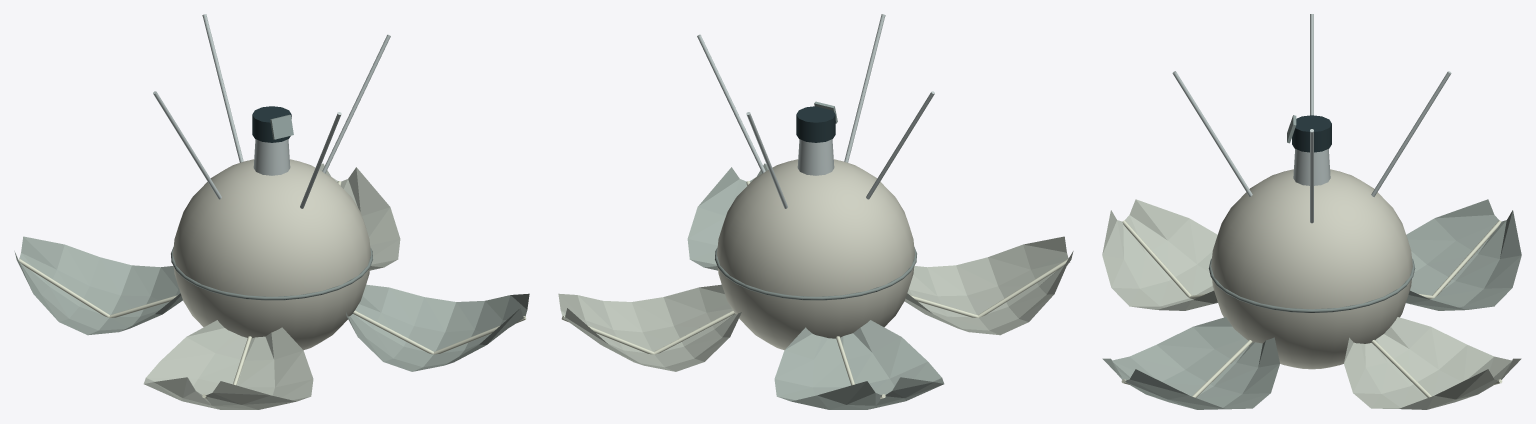
File: luna-9.glb
3 renders of one model, left to right at view 1: azimuth 30°, elevation 25°; view 2: azimuth 150°, elevation 25°; view 3: azimuth 270°, elevation 25°, orthographic.
Visible parts, largest first — view 1: luna-9-spherical-capsule, luna-9-open-petal-2, luna-9-open-petal-3, luna-9-open-petal-1, luna-9-open-petal-4, luna-9-television-scanner-column, luna-9-shell-seam, luna-9-television-scan-head, luna-9-rod-antenna-4, luna-9-rod-antenna-1, luna-9-rod-antenna-3, luna-9-petal-outer-rib-3 (+2 smaller); view 2: luna-9-spherical-capsule, luna-9-open-petal-3, luna-9-open-petal-2, luna-9-open-petal-4, luna-9-open-petal-1, luna-9-television-scan-head, luna-9-television-scanner-column, luna-9-shell-seam, luna-9-rod-antenna-2, luna-9-rod-antenna-1, luna-9-rod-antenna-3, luna-9-rod-antenna-4 (+1 smaller); view 3: luna-9-spherical-capsule, luna-9-open-petal-1, luna-9-open-petal-4, luna-9-open-petal-3, luna-9-open-petal-2, luna-9-television-scan-head, luna-9-television-scanner-column, luna-9-shell-seam, luna-9-rod-antenna-2, luna-9-rod-antenna-4, luna-9-petal-outer-rib-2, luna-9-petal-outer-rib-3 (+1 smaller).
Boxes of the visible parts, bbox=[...] form: luna-9-spherical-capsule: bbox=[173, 159, 370, 350]; luna-9-open-petal-2: bbox=[143, 320, 313, 409]; luna-9-open-petal-3: bbox=[14, 236, 182, 335]; luna-9-open-petal-1: bbox=[346, 284, 529, 371]; luna-9-open-petal-4: bbox=[319, 163, 400, 270]; luna-9-television-scanner-column: bbox=[253, 139, 290, 175]; luna-9-shell-seam: bbox=[171, 247, 372, 300]; luna-9-television-scan-head: bbox=[252, 106, 291, 142]; luna-9-rod-antenna-4: bbox=[202, 14, 243, 162]; luna-9-rod-antenna-1: bbox=[322, 34, 390, 173]; luna-9-rod-antenna-3: bbox=[153, 91, 221, 199]; luna-9-petal-outer-rib-3: bbox=[19, 259, 109, 317]; luna-9-spherical-capsule: bbox=[717, 159, 914, 350]; luna-9-open-petal-3: bbox=[774, 320, 944, 409]; luna-9-open-petal-2: bbox=[904, 236, 1073, 335]; luna-9-open-petal-4: bbox=[558, 284, 741, 371]; luna-9-open-petal-1: bbox=[687, 163, 768, 270]; luna-9-television-scan-head: bbox=[796, 106, 835, 142]; luna-9-television-scanner-column: bbox=[797, 139, 834, 175]; luna-9-shell-seam: bbox=[715, 247, 916, 300]; luna-9-rod-antenna-2: bbox=[844, 14, 885, 162]; luna-9-rod-antenna-1: bbox=[697, 34, 765, 173]; luna-9-rod-antenna-3: bbox=[866, 91, 934, 199]; luna-9-rod-antenna-4: bbox=[746, 112, 787, 208]; luna-9-spherical-capsule: bbox=[1211, 169, 1412, 369]; luna-9-open-petal-1: bbox=[1102, 317, 1279, 409]; luna-9-open-petal-4: bbox=[1344, 317, 1521, 409]; luna-9-open-petal-3: bbox=[1406, 199, 1521, 310]; luna-9-open-petal-2: bbox=[1102, 199, 1217, 310]; luna-9-television-scan-head: bbox=[1292, 115, 1331, 152]; luna-9-television-scanner-column: bbox=[1293, 149, 1330, 185]; luna-9-shell-seam: bbox=[1208, 258, 1415, 312]; luna-9-rod-antenna-2: bbox=[1172, 71, 1252, 196]; luna-9-rod-antenna-4: bbox=[1371, 71, 1451, 196]; luna-9-petal-outer-rib-2: bbox=[1122, 220, 1191, 297]; luna-9-petal-outer-rib-3: bbox=[1432, 220, 1501, 297].
Size of the model in its own units: 2.41 by 1.83 by 2.41.
